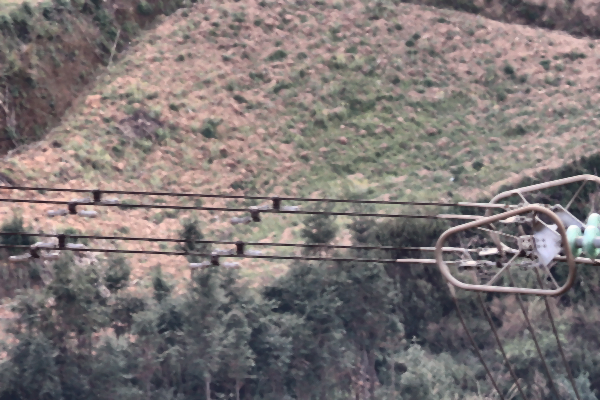damper: (184, 250, 241, 272), (7, 243, 62, 262), (46, 199, 97, 219), (211, 238, 266, 256), (248, 194, 302, 211), (72, 187, 120, 206), (30, 232, 85, 248)
damper_defect: (229, 206, 266, 227)
